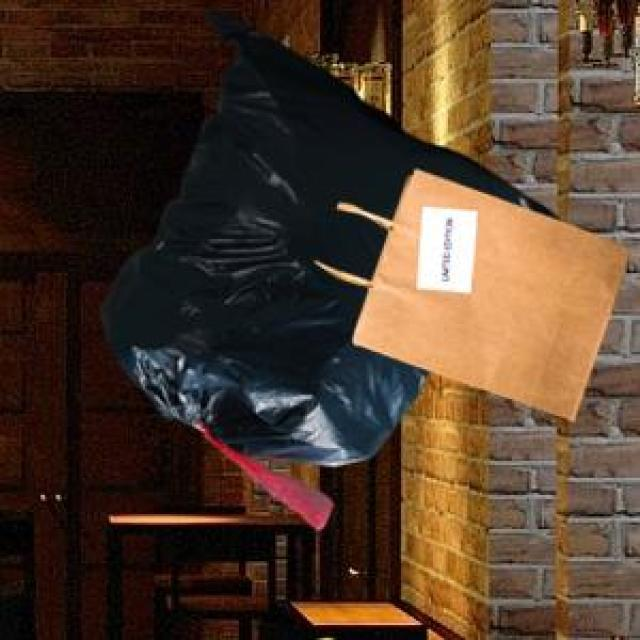miscellaneous trash: (96, 6, 557, 525)
paper: (320, 166, 625, 416)
